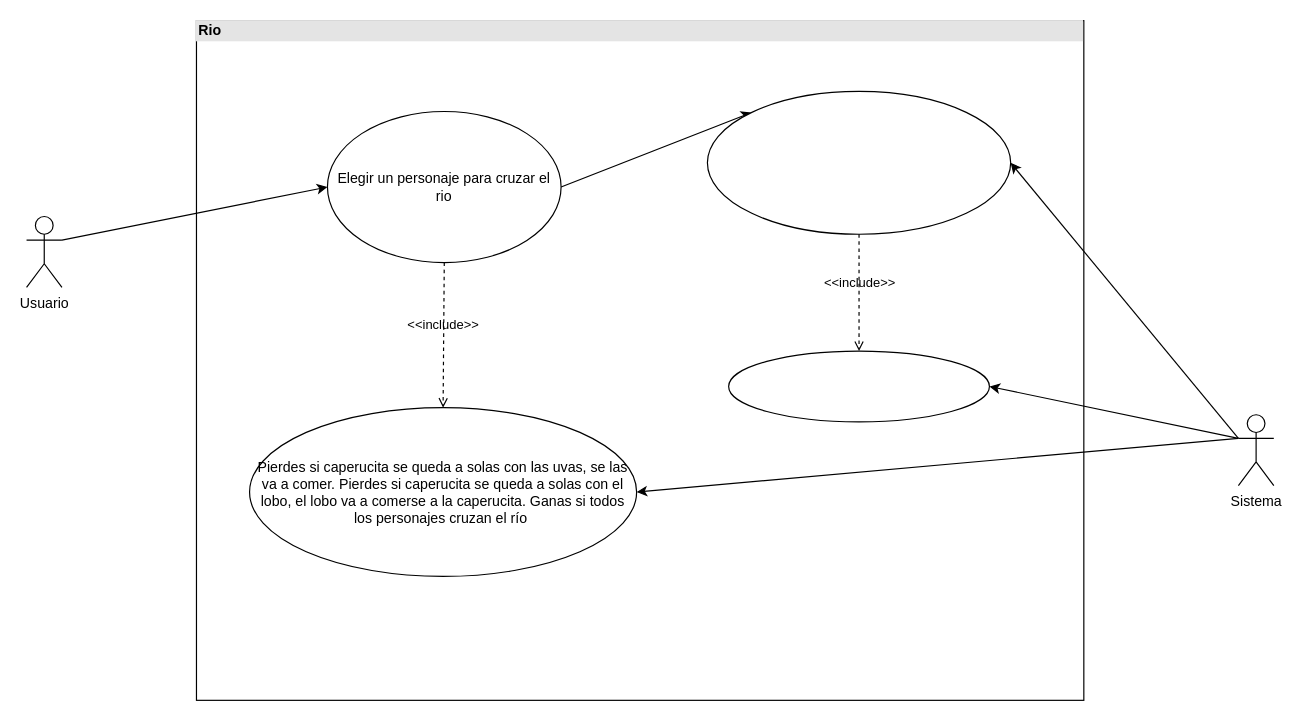
Some shapes in this 1302 by 721 pixel diagram are drawn without their labels. The centre of each missing label's shape, as x and y in pixels:
"Indicar los personajes en las orillas" goes at [858,386].
"Mostrar el estado del jugador (Movimientos)" goes at [858,162].
